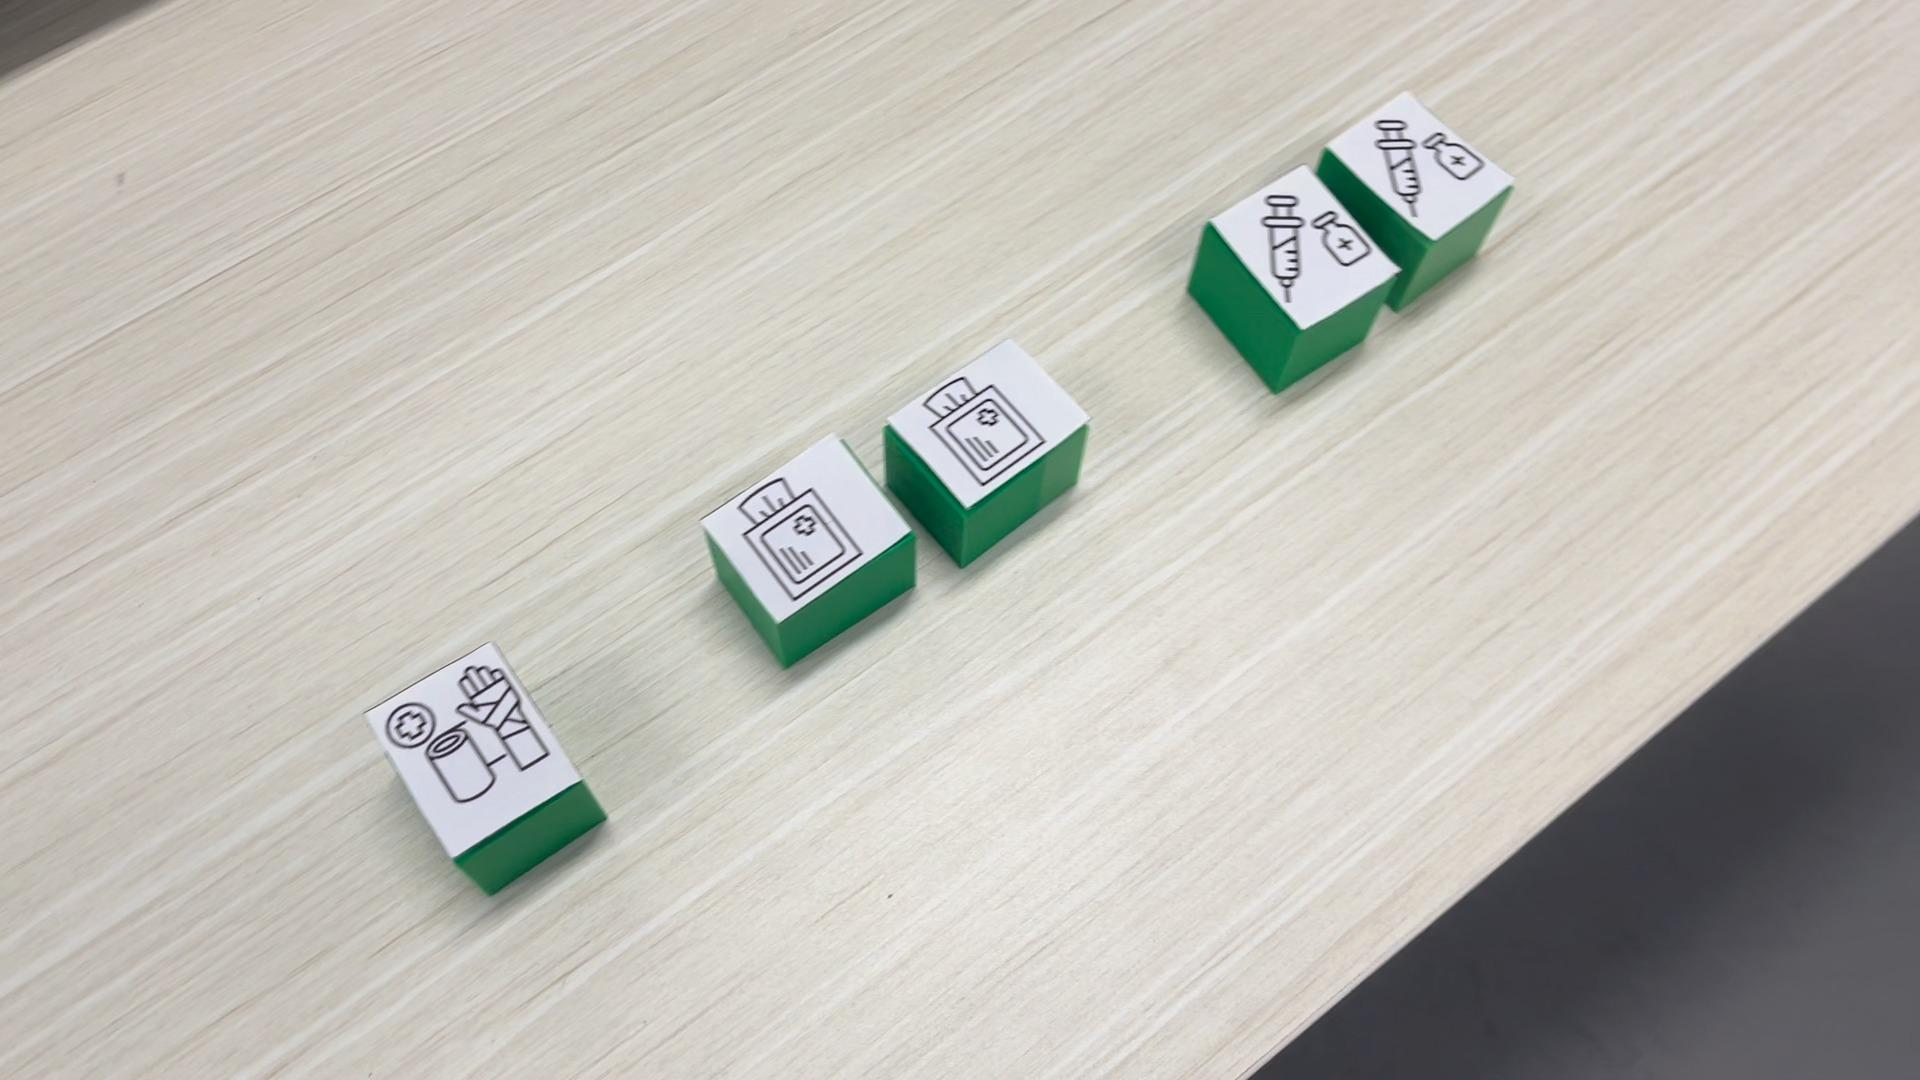Bandages: (357, 641, 607, 894)
Gauze: (696, 433, 913, 667), (882, 338, 1093, 566)
antiseptic cream: (1185, 162, 1404, 394), (1321, 90, 1516, 236)
